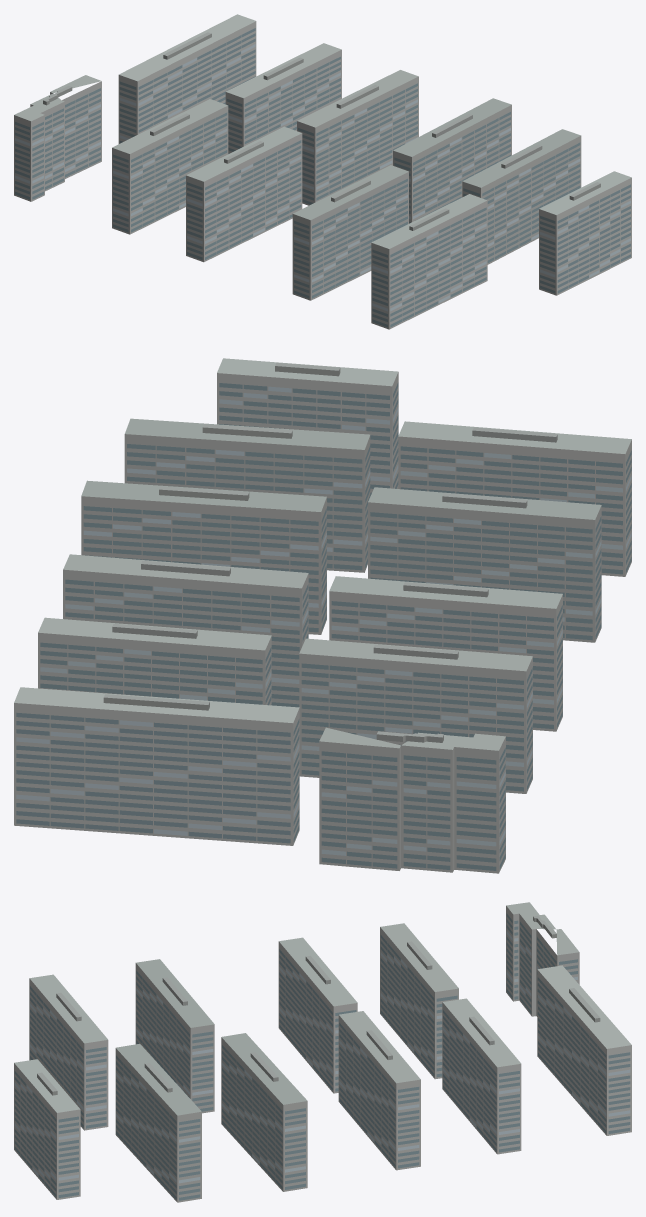
Rendered from apt-a13987303.glb.
The picture shows the model from 3 angles, top to bottom: view 1: azimuth 30°, elevation 25°; view 2: azimuth 150°, elevation 25°; view 3: azimuth 270°, elevation 25°; orthographic projection. The views are drawn at different scales.
Parts seen in each view (by area): view 1: apt-a13987303; view 2: apt-a13987303; view 3: apt-a13987303.
Boxes of the visible parts, x1,y1,x2,y2 form: apt-a13987303: [14, 14, 631, 329]; apt-a13987303: [14, 358, 631, 873]; apt-a13987303: [14, 902, 631, 1202].
Bounding box in the file's own units: 240 × 47.81 × 294.
